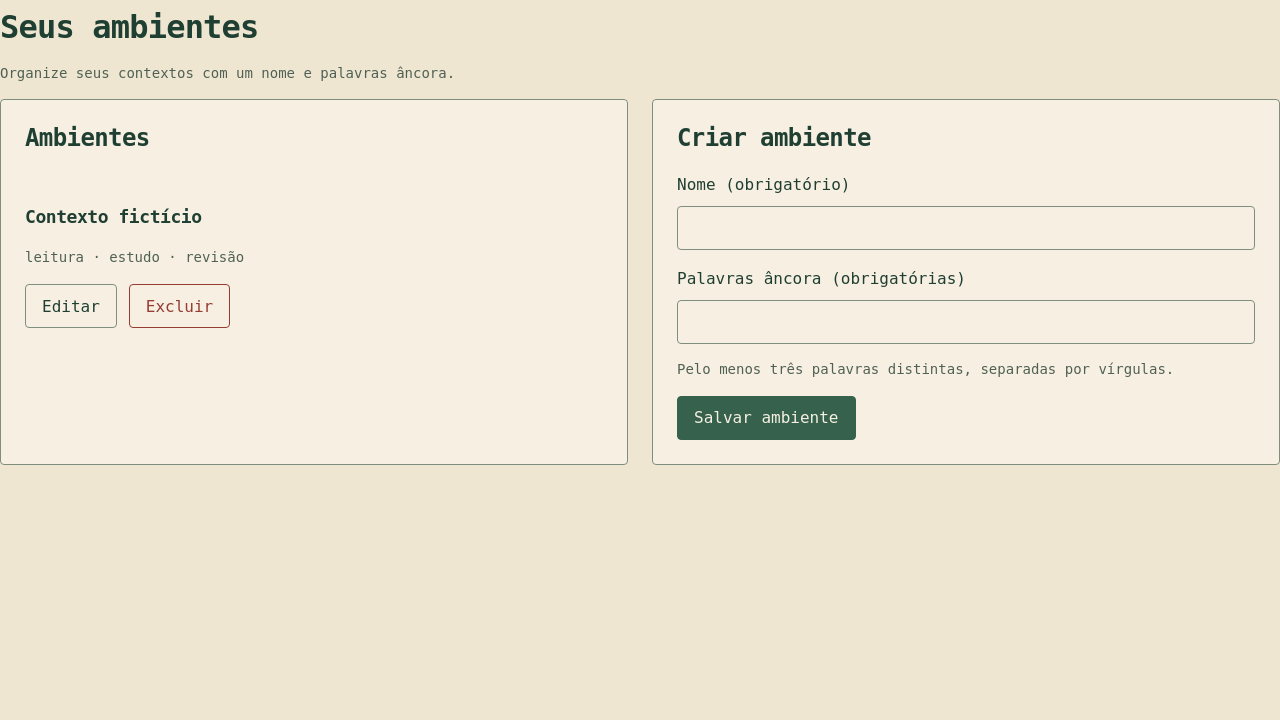
Test: interface da primeira entrega › exclusão mostra impacto, cancelar preserva e confirmar remove
The image size is (1280, 720).
Click the button with aria-label "Excluir Contexto fictício".
click(180, 306)  # box [129,284,230,328]
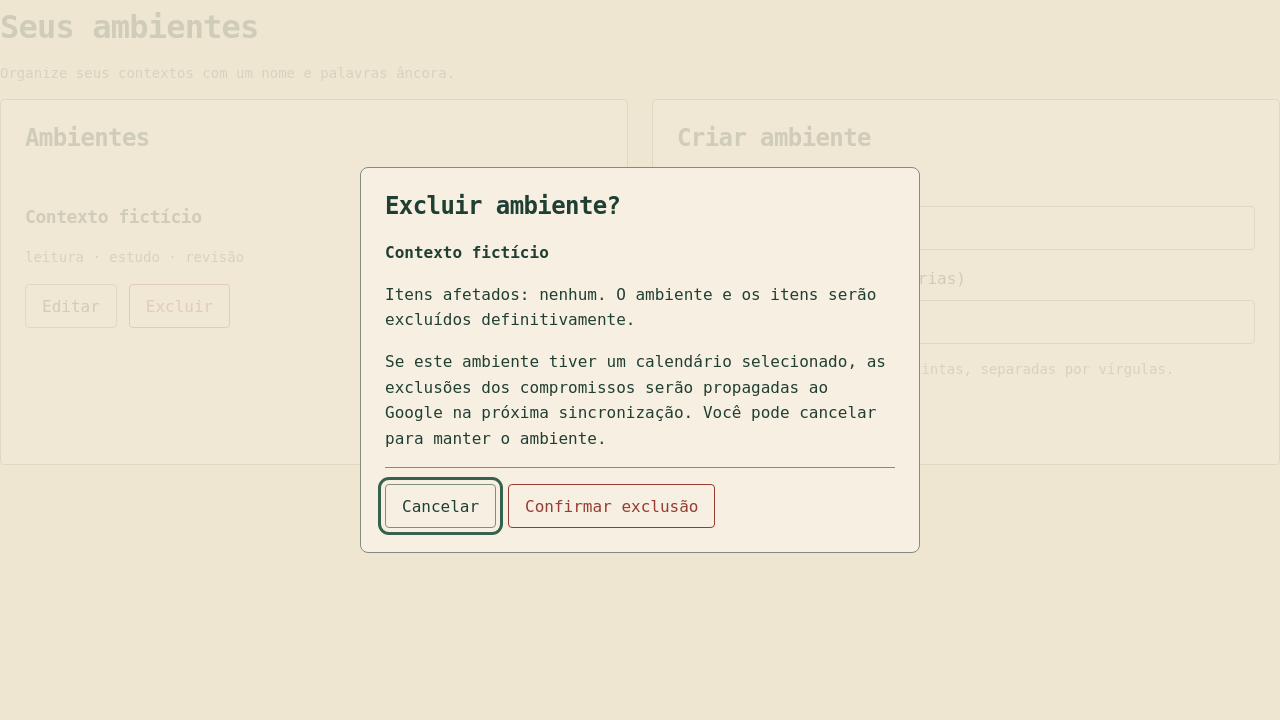
Result: the dialog "Excluir ambiente?" shows "Itens afetados: nenhum." at [385,285,607,304]
Click the button "Cancelar".
click(441, 506)  # box [385,484,496,528]
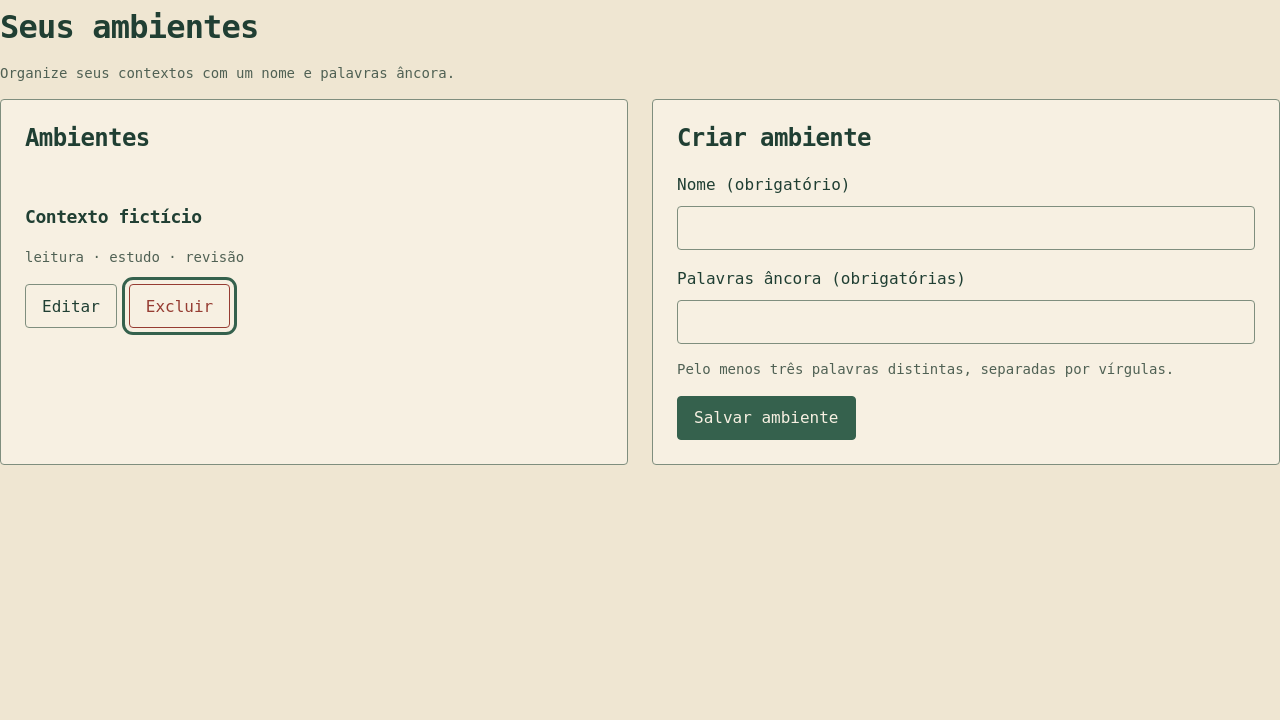
Click the button with aria-label "Excluir Contexto fictício".
click(180, 306)  # box [129,284,230,328]
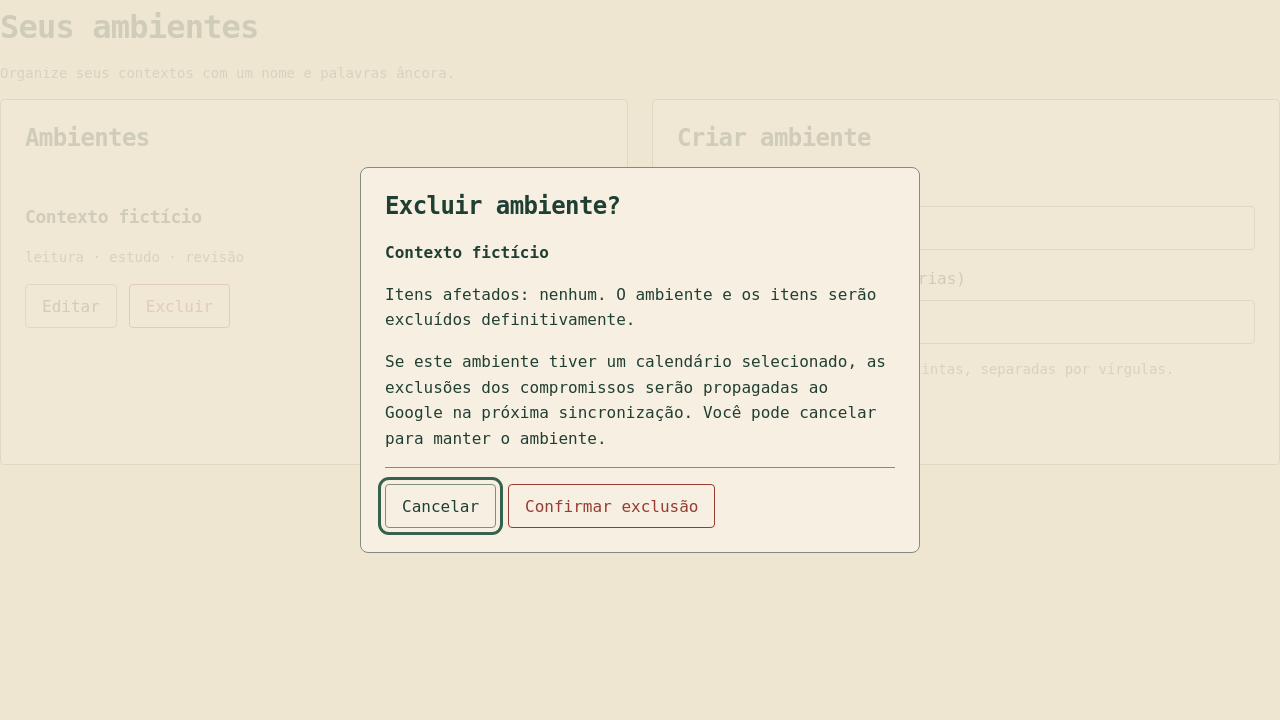
Click the button "Confirmar exclusão".
click(612, 506)  # box [508,484,716,528]
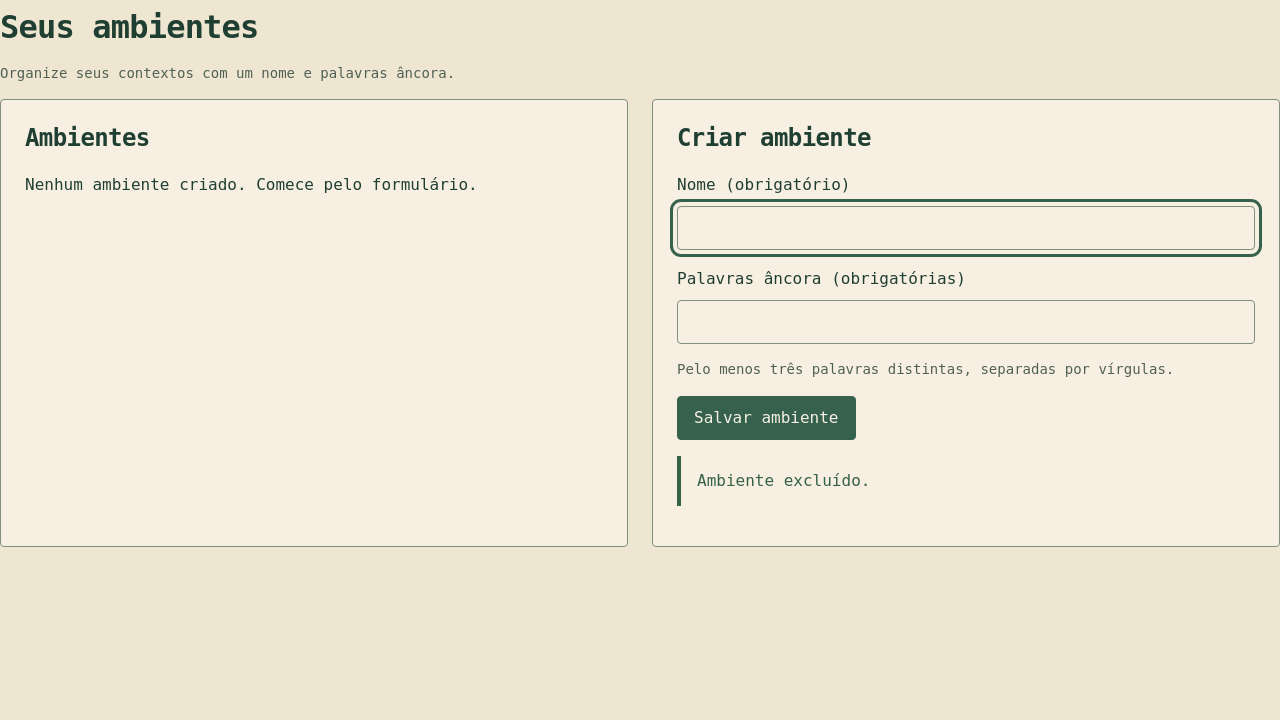
Result: the text "Nenhum ambiente criado. Comece pelo formulário." is shown at [25,176,478,194]
